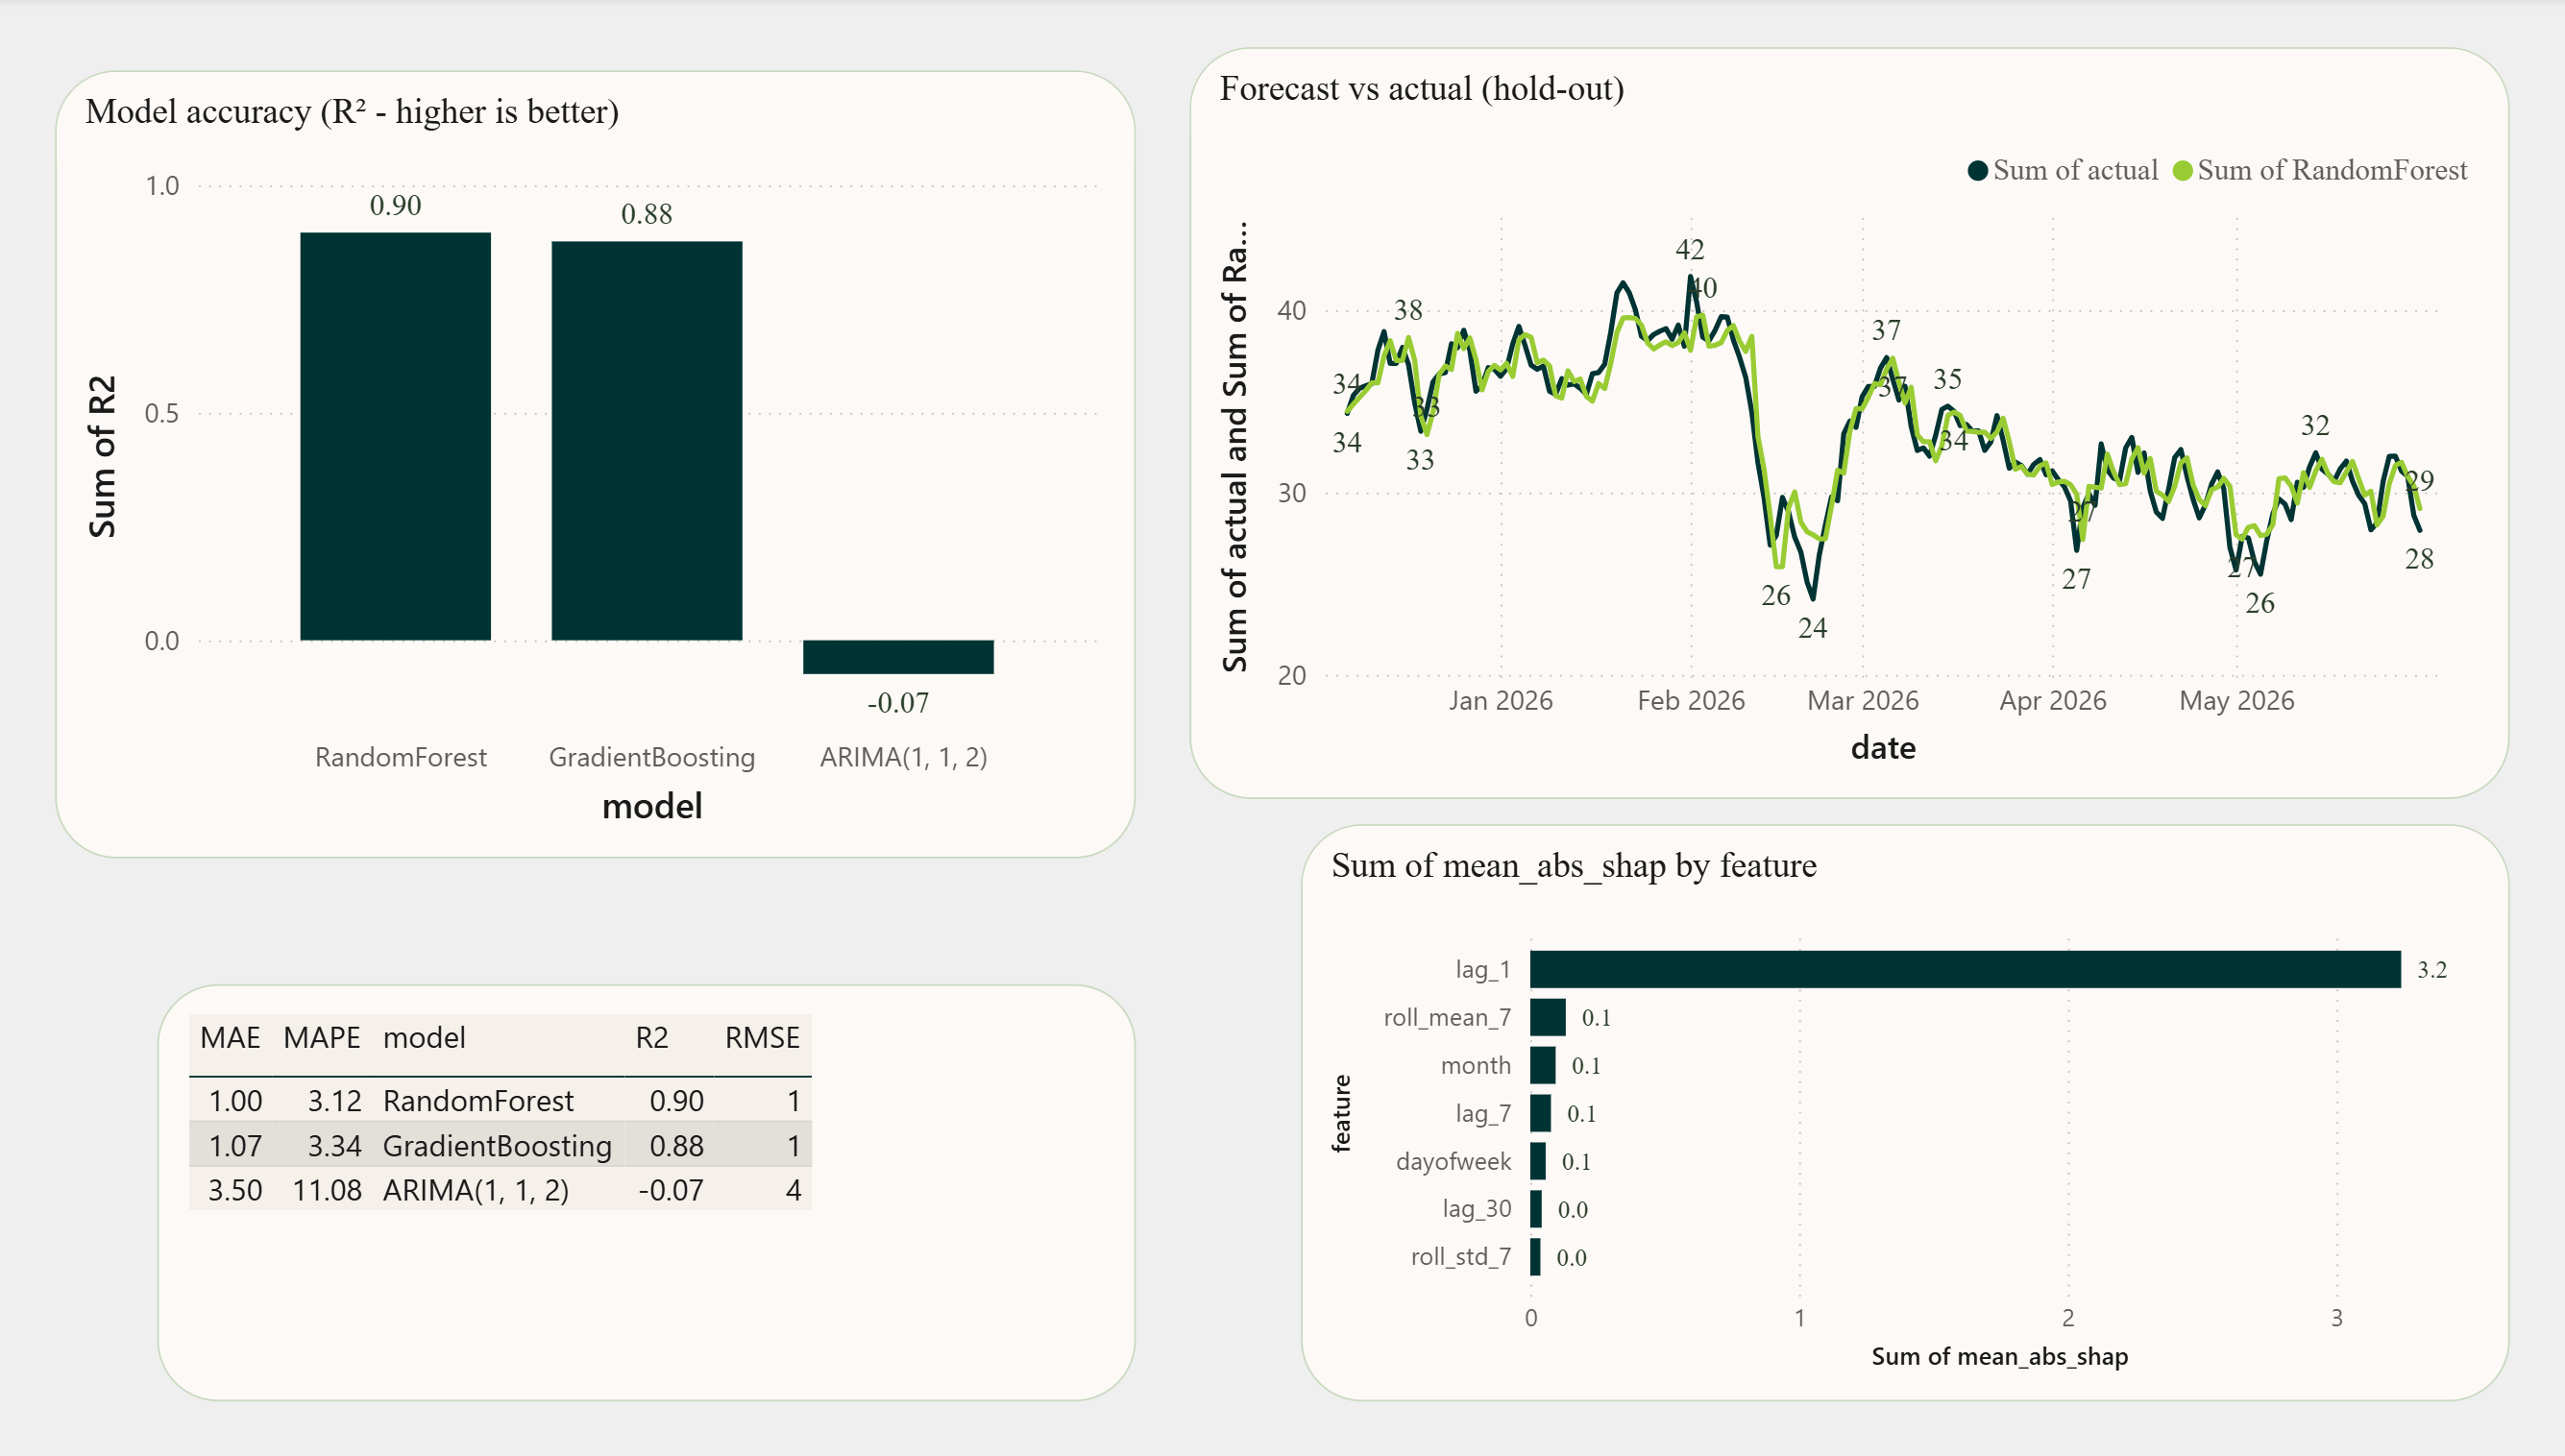

This screenshot's page, from the dashboard's own definition file:
{"tool":"powerbi","page":{"name":"Model Performance","canvas":[1280,720],"ordinal":2},"visuals":[{"type":"clusteredColumnChart","title":"Model accuracy (R² -higher is better)","fields":{"Category":["model_comparison.model"],"Y":["CountNonNull(model_comparison.R2)"]},"box":[28.3,37,530.8,387.2],"z":0},{"type":"tableEx","fields":{"Values":["model_comparison.MAE","model_comparison.MAPE","model_comparison.model","model_comparison.R2","model_comparison.RMSE"]},"box":[695.2,36.5,469.9,271.9],"z":1000},{"type":"lineChart","title":"Forecast vs actual (hold-out)","fields":{"Category":["forecasts.date"],"Y":["Sum(forecasts.actual)","Sum(forecasts.RandomForest)"]},"box":[192.9,438.3,406.2,242],"z":2000},{"type":"clusteredBarChart","fields":{"Category":["shap_importance.feature"],"Y":["Sum(shap_importance.mean_abs_shap)"]},"box":[676.1,333.9,558.7,357],"z":3000}]}

Visuals, with their boxes in screenshot pixels (x1, y1, x2, y2), scaled from the page's 1280x720 canvas onto the 2565x1456 screenshot:
"Model accuracy (R² -higher is better)" clusteredColumnChart: {"x1": 57, "y1": 75, "x2": 1120, "y2": 858}
tableEx - model_comparison.MAE x model_comparison.MAPE: {"x1": 1393, "y1": 74, "x2": 2334, "y2": 623}
"Forecast vs actual (hold-out)" lineChart: {"x1": 386, "y1": 886, "x2": 1201, "y2": 1375}
clusteredBarChart - shap_importance.feature x Sum(shap_importance.mean_abs_shap): {"x1": 1355, "y1": 675, "x2": 2475, "y2": 1397}
